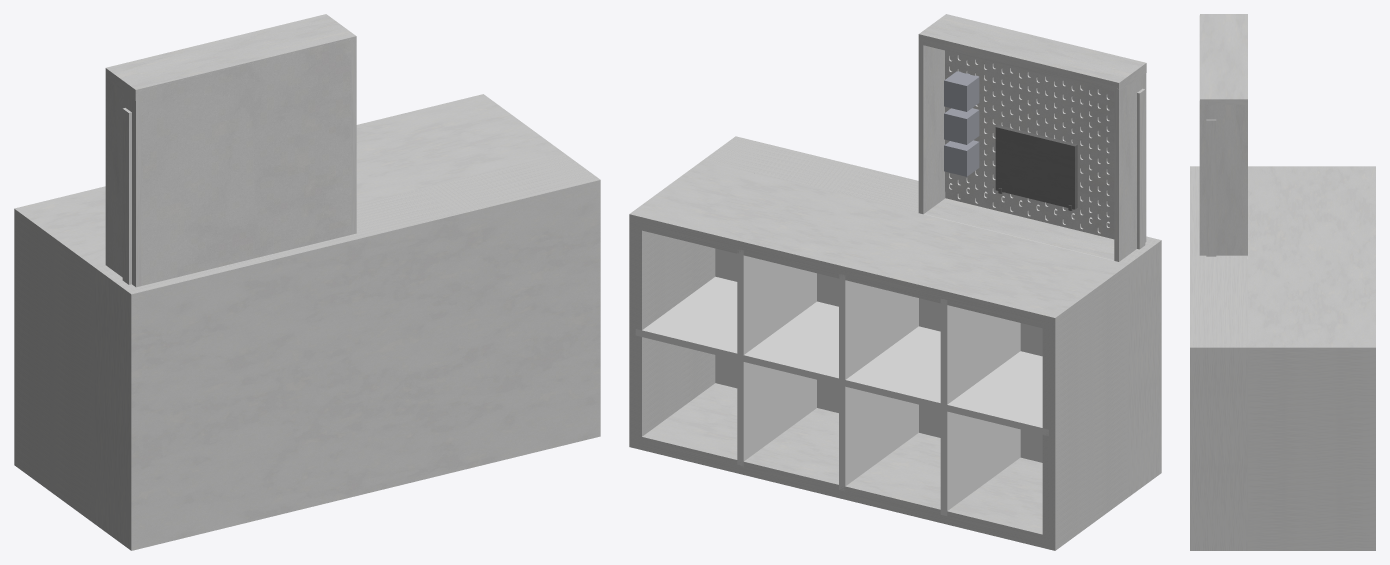
File: schrank.glb
3 renders of one model, left to right at view 1: azimuth 30°, elevation 25°; view 2: azimuth 150°, elevation 25°; view 3: azimuth 270°, elevation 25°, orthographic. The views are drawn at different scales.
Parts seen in each view (by area): view 1: hinterbau_rahmen, schublade, schrank; view 2: schrank, schublade, hinterbau_rahmen; view 3: schrank, hinterbau_rahmen, schublade.
Part boxes in pixels (x1,y1,x2,y2): hinterbau_rahmen: (95, 153, 600, 550); schublade: (105, 14, 356, 287); schrank: (14, 94, 563, 523); schrank: (629, 160, 1128, 550); schublade: (918, 14, 1146, 261); hinterbau_rahmen: (703, 136, 1161, 496); schrank: (1247, 166, 1375, 550); hinterbau_rahmen: (1190, 166, 1247, 550); schublade: (1199, 14, 1247, 256).
Size of the model in its own units: 1.34 by 1.24 by 0.58.
6 materials, 5 textured.
